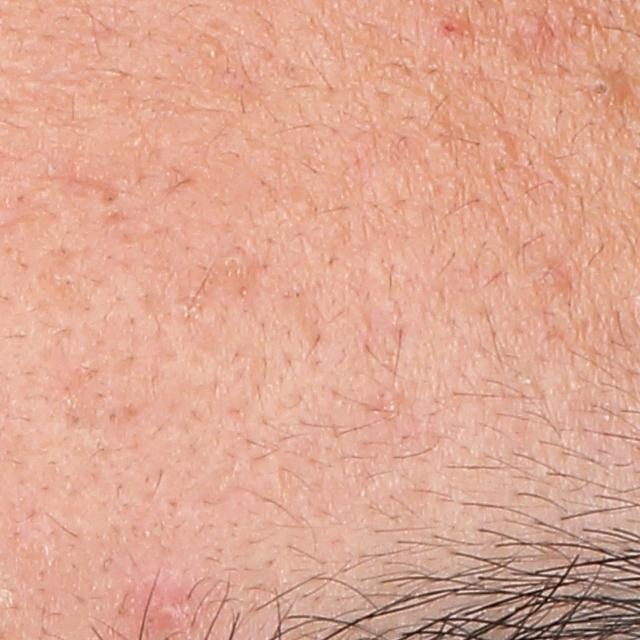comedo: (483, 132, 513, 158), (586, 77, 612, 102)
papule: (145, 591, 189, 633)
